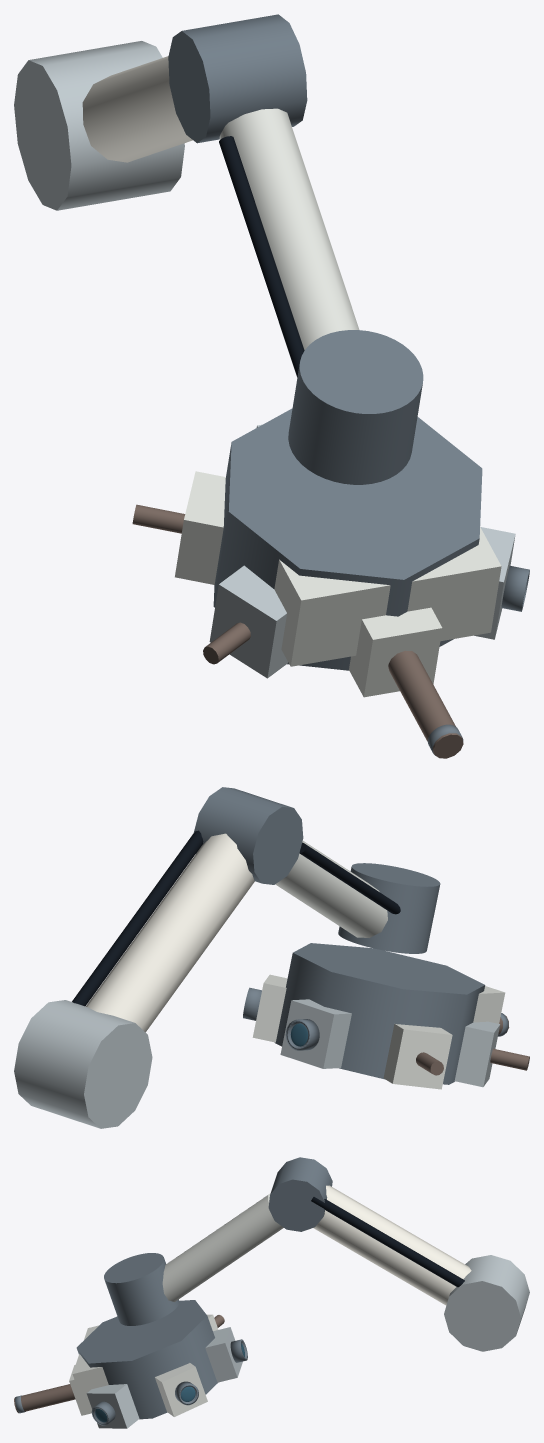
File: perseverance_arm.glb
3 views of the same model, one above another, from view 1: azimuth 30°, elevation 25°; view 2: azimuth 150°, elevation 25°; view 3: azimuth 270°, elevation 25° (orthographic). The views are drawn at different scales.
Parts seen in each view (by area): view 1: perseverance_arm.shoulder_azimuth.shoulder_elevation.elbow.f (×3), perseverance_turret.mesh_Machined_steel, perseverance_arm.shoulder_azimuth.shoulder_elevation.mesh_Sa, perseverance_turret.mesh_Pale_thermal_blanket, perseverance_arm.shoulder_azimuth.shoulder_elevation.elbow.m, perseverance_arm.shoulder_azimuth.shoulder_elevation.mesh_Wa, perseverance_turret.contact_sensor.mesh_Satin_aluminum, perseverance_turret.drill.mesh_Pale_thermal_blanket, perseverance_turret.gdrt.mesh_Pale_thermal_blanket, perseverance_turret.drill.mesh_Heat-stained_alloy, perseverance_turret.pixl.mesh_Satin_aluminum, perseverance_turret.contact_sensor.mesh_Heat-stained_alloy (+2 smaller); view 2: perseverance_turret.mesh_Machined_steel, perseverance_arm.shoulder_azimuth.shoulder_elevation.mesh_Sa, perseverance_arm.shoulder_azimuth.shoulder_elevation.mesh_Wa, perseverance_arm.shoulder_azimuth.shoulder_elevation.elbow.f (×3), perseverance_arm.shoulder_azimuth.shoulder_elevation.elbow.m, perseverance_turret.gdrt.mesh_Pale_thermal_blanket, perseverance_arm.shoulder_azimuth.shoulder_elevation.mesh_Sh, perseverance_turret.watson.mesh_Satin_aluminum, perseverance_turret.contact_sensor.mesh_Satin_aluminum, perseverance_turret.sherloc.mesh_Pale_thermal_blanket, perseverance_turret.mesh_Pale_thermal_blanket, perseverance_turret.watson.aperture.mesh_Machined_steel (+3 smaller); view 3: perseverance_turret.mesh_Machined_steel, perseverance_arm.shoulder_azimuth.shoulder_elevation.elbow.f (×2), perseverance_arm.shoulder_azimuth.shoulder_elevation.mesh_Sa, perseverance_arm.shoulder_azimuth.shoulder_elevation.mesh_Wa, perseverance_arm.shoulder_azimuth.shoulder_elevation.elbow.m, perseverance_arm.shoulder_azimuth.shoulder_elevation.mesh_Sh, perseverance_turret.sherloc.mesh_Pale_thermal_blanket, perseverance_turret.pixl.mesh_Satin_aluminum, perseverance_turret.watson.mesh_Satin_aluminum, perseverance_turret.mesh_Pale_thermal_blanket, perseverance_turret.drill.mesh_Heat-stained_alloy, perseverance_turret.pixl.aperture.mesh_Machined_steel.
Boxes of the visible parts, <box> form: perseverance_arm.shoulder_azimuth.shoulder_elevation.elbow.f (×3): <box>219,108,423,484</box>; perseverance_turret.mesh_Machined_steel: <box>213,408,482,670</box>; perseverance_arm.shoulder_azimuth.shoulder_elevation.mesh_Sa: <box>14,41,184,210</box>; perseverance_turret.mesh_Pale_thermal_blanket: <box>274,527,501,666</box>; perseverance_arm.shoulder_azimuth.shoulder_elevation.elbow.m: <box>168,14,307,143</box>; perseverance_arm.shoulder_azimuth.shoulder_elevation.mesh_Wa: <box>82,56,192,162</box>; perseverance_turret.contact_sensor.mesh_Satin_aluminum: <box>209,565,287,678</box>; perseverance_turret.drill.mesh_Pale_thermal_blanket: <box>349,607,442,697</box>; perseverance_turret.gdrt.mesh_Pale_thermal_blanket: <box>175,471,225,584</box>; perseverance_turret.drill.mesh_Heat-stained_alloy: <box>388,650,463,758</box>; perseverance_turret.pixl.mesh_Satin_aluminum: <box>474,527,515,639</box>; perseverance_turret.contact_sensor.mesh_Heat-stained_alloy: <box>203,622,250,664</box>; perseverance_turret.mesh_Machined_steel: <box>274,943,485,1084</box>; perseverance_arm.shoulder_azimuth.shoulder_elevation.mesh_Sa: <box>14,1000,152,1128</box>; perseverance_arm.shoulder_azimuth.shoulder_elevation.mesh_Wa: <box>86,833,254,1032</box>; perseverance_arm.shoulder_azimuth.shoulder_elevation.elbow.f (×3): <box>275,840,440,953</box>; perseverance_arm.shoulder_azimuth.shoulder_elevation.elbow.m: <box>193,787,303,884</box>; perseverance_turret.gdrt.mesh_Pale_thermal_blanket: <box>383,1023,452,1089</box>; perseverance_arm.shoulder_azimuth.shoulder_elevation.mesh_Sh: <box>72,830,203,1006</box>; perseverance_turret.watson.mesh_Satin_aluminum: <box>280,999,351,1068</box>; perseverance_turret.contact_sensor.mesh_Satin_aluminum: <box>454,1021,500,1087</box>; perseverance_turret.sherloc.mesh_Pale_thermal_blanket: <box>252,974,287,1042</box>; perseverance_turret.mesh_Pale_thermal_blanket: <box>473,986,505,1023</box>; perseverance_turret.watson.aperture.mesh_Machined_steel: <box>285,1019,319,1050</box>; perseverance_turret.mesh_Machined_steel: <box>76,1300,217,1419</box>; perseverance_arm.shoulder_azimuth.shoulder_elevation.elbow.f (×2): <box>104,1193,283,1325</box>; perseverance_arm.shoulder_azimuth.shoulder_elevation.mesh_Sa: <box>444,1255,529,1351</box>; perseverance_arm.shoulder_azimuth.shoulder_elevation.mesh_Wa: <box>313,1185,471,1305</box>; perseverance_arm.shoulder_azimuth.shoulder_elevation.elbow.m: <box>268,1157,332,1231</box>; perseverance_arm.shoulder_azimuth.shoulder_elevation.mesh_Sh: <box>311,1197,464,1287</box>; perseverance_turret.sherloc.mesh_Pale_thermal_blanket: <box>155,1363,207,1416</box>; perseverance_turret.pixl.mesh_Satin_aluminum: <box>86,1384,139,1428</box>; perseverance_turret.watson.mesh_Satin_aluminum: <box>205,1327,242,1382</box>; perseverance_turret.mesh_Pale_thermal_blanket: <box>72,1325,108,1414</box>; perseverance_turret.drill.mesh_Heat-stained_alloy: <box>14,1384,75,1413</box>; perseverance_turret.pixl.aperture.mesh_Machined_steel: <box>91,1401,115,1425</box>.
Size of the model in its own units: 0.6345 by 0.942 by 1.69.
